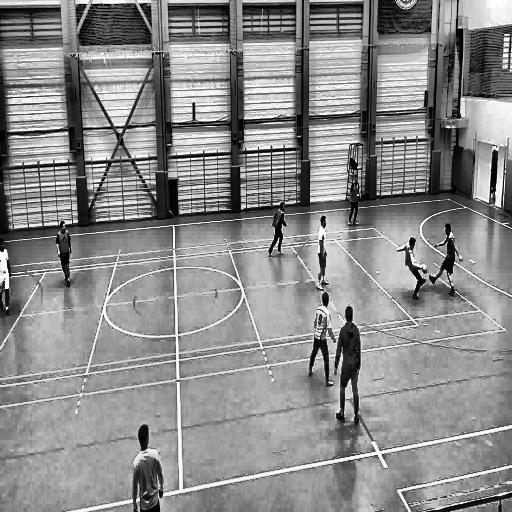ball: (422, 264, 428, 275)
player: (335, 302, 361, 428), (132, 419, 163, 512), (308, 291, 336, 388), (429, 222, 463, 299), (395, 234, 428, 302), (268, 196, 288, 258), (56, 221, 72, 290), (0, 235, 13, 317), (316, 211, 329, 292), (347, 174, 363, 228)
